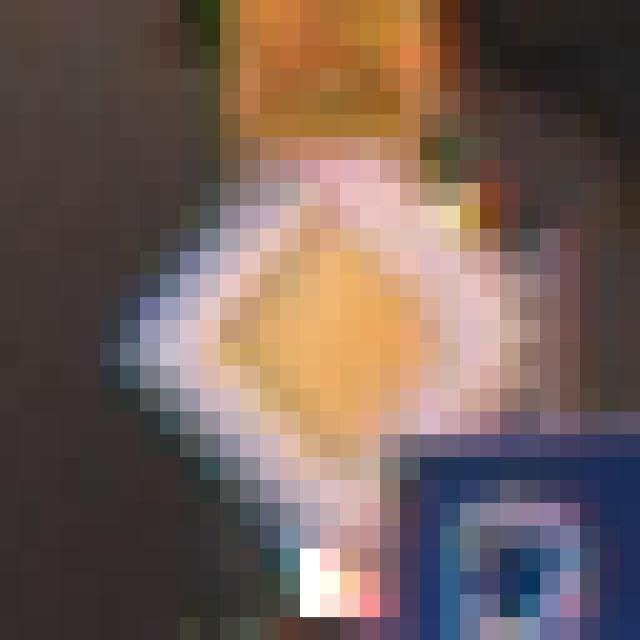Main Road: (121, 138, 541, 527)
